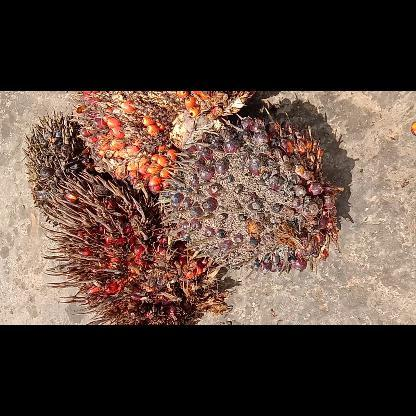Kurang masak: (160, 109, 338, 271)
TBS abnormal: (24, 110, 126, 223)
TBS masak: (74, 91, 252, 191)
Terlalu masak: (40, 176, 228, 324)
